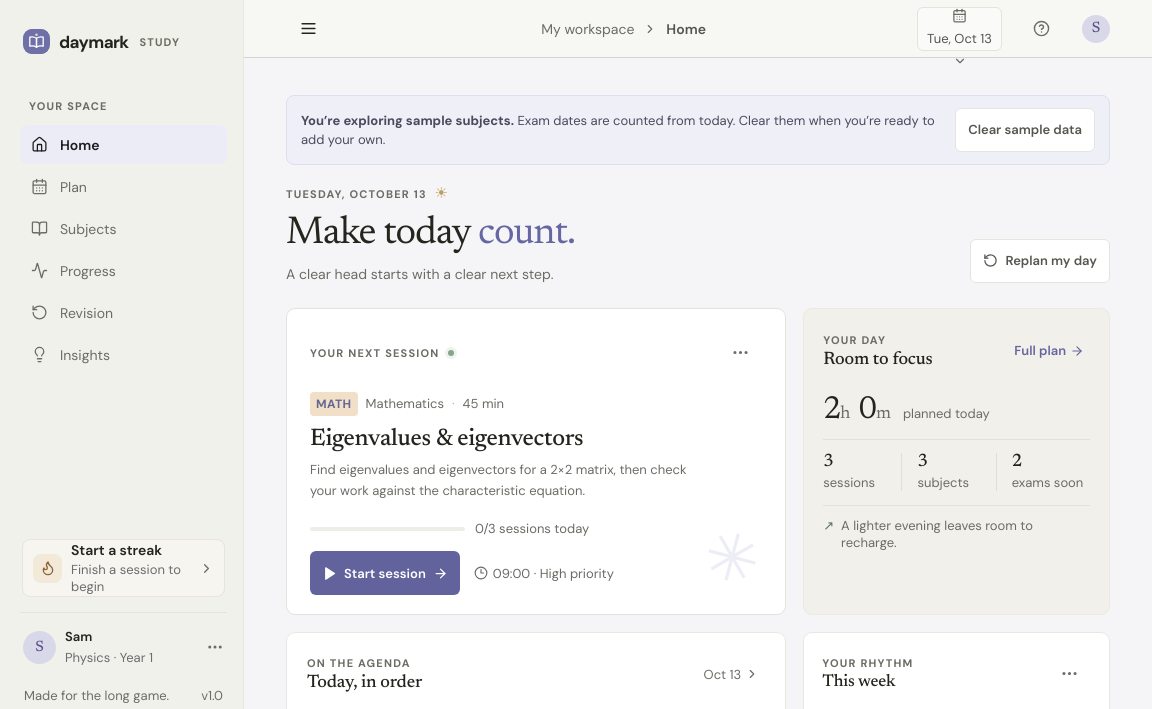
Test: calendar on touch screens › opens full session details on tap instead of starting the session
Click the button "Plan" at (124, 186), box x1=20 y1=167 x2=227 y2=206
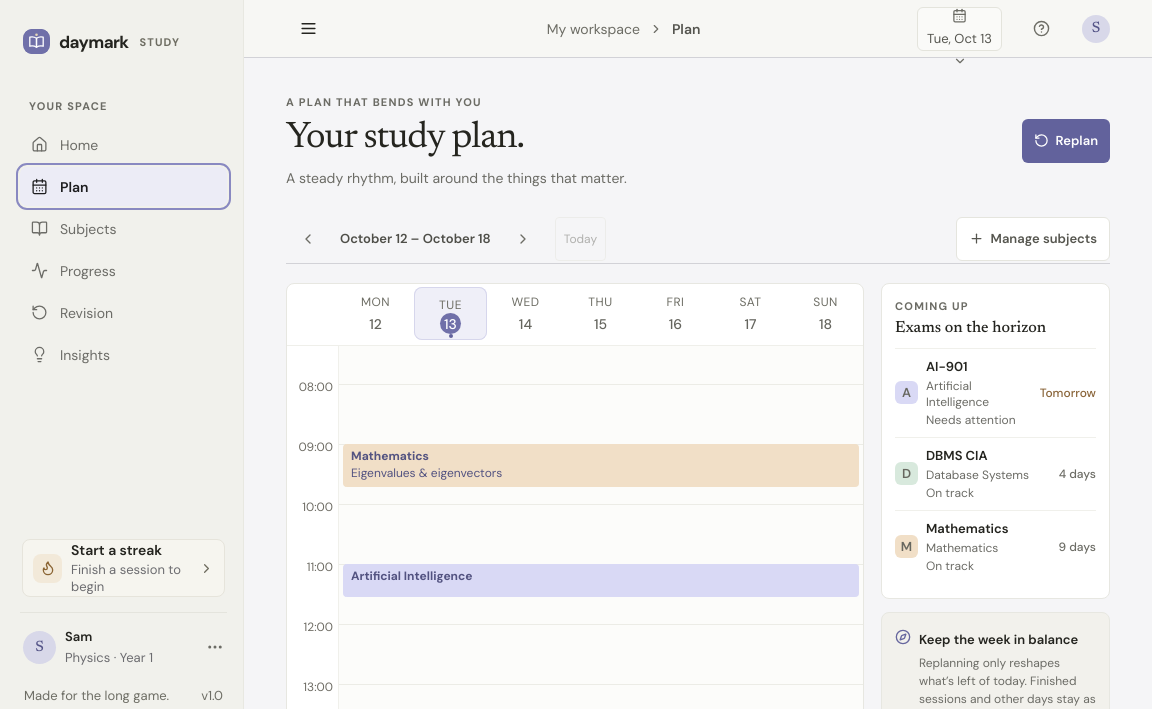
Click the button "Mathematics Eigenvalues & eigenvectors" at (390, 456), box x1=343 y1=444 x2=859 y2=487
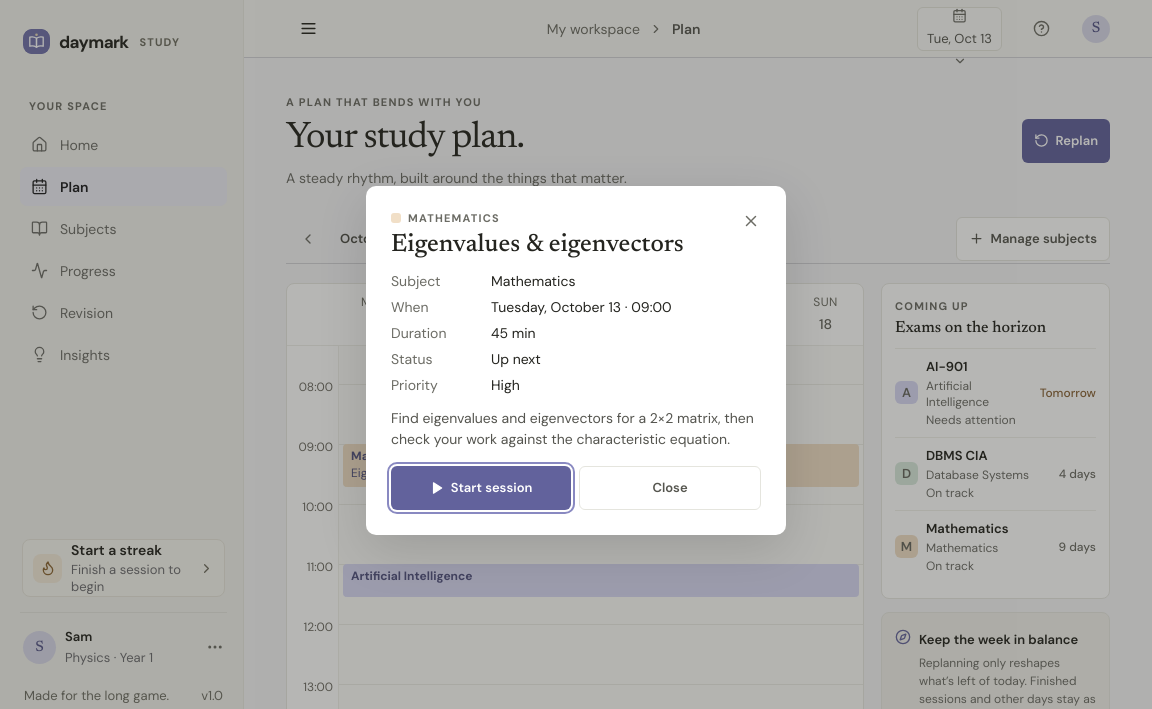
expect the dialog "Eigenvalues & eigenvectors" shows "MATHEMATICS": met, box x1=408 y1=210 x2=500 y2=224
expect the dialog "Eigenvalues & eigenvectors" shows "Tuesday, October 13 · 09:00": met, box x1=366 y1=186 x2=786 y2=534
expect the dialog "Eigenvalues & eigenvectors" shows "45 min": met, box x1=366 y1=186 x2=786 y2=534
